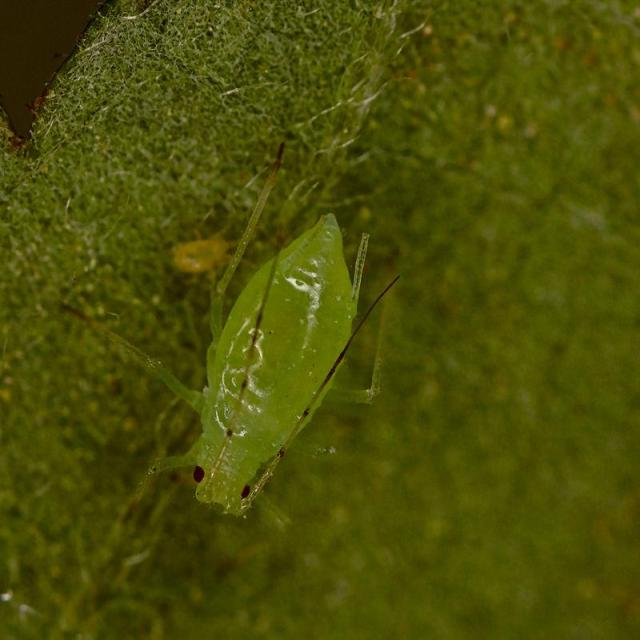Aphids: (118, 156, 423, 554)
